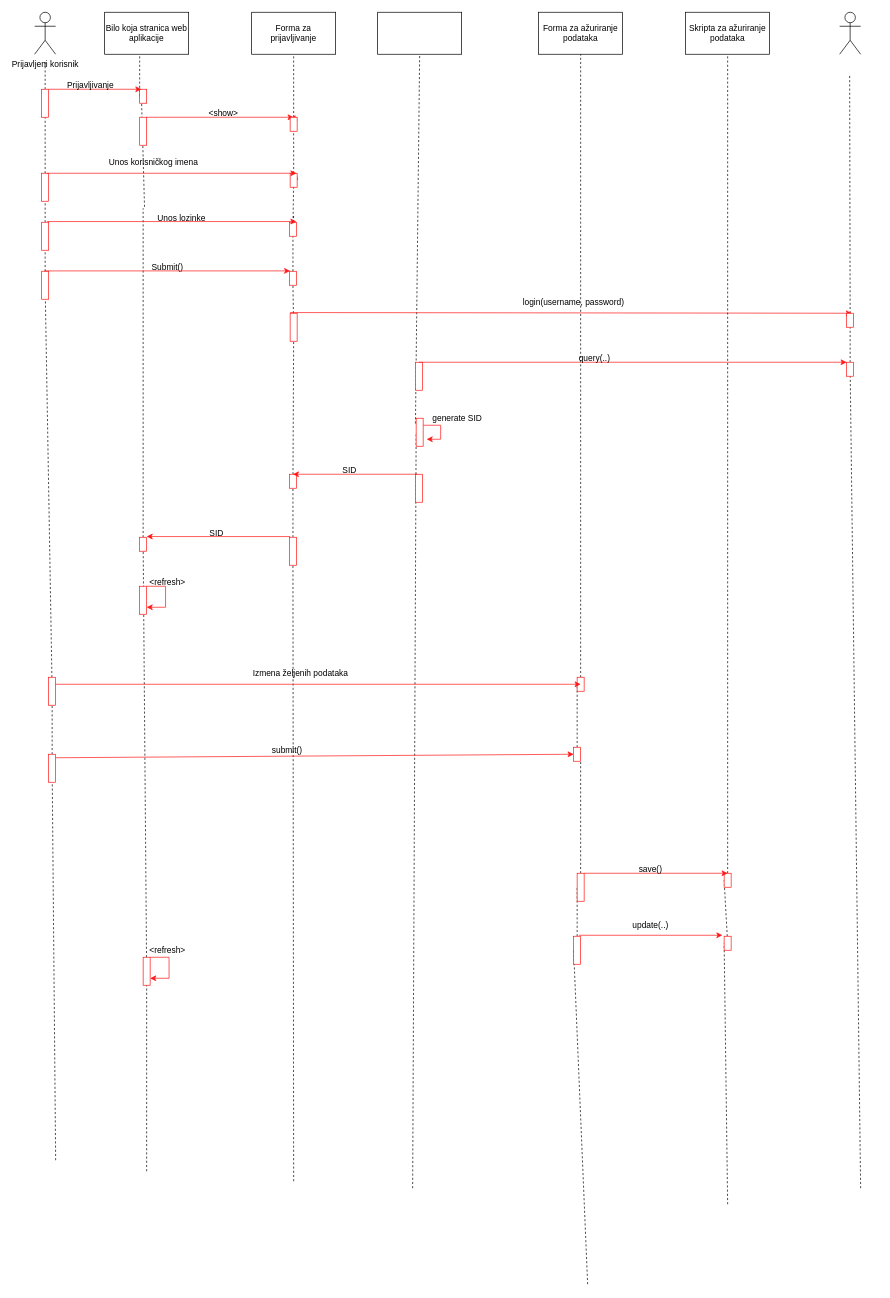
Image size: 890x1298. Some labels were removed from this diagram. The box of each missing label's shape, as (x1, y1, x2, y2) in pixels:
Baza podataka: (839, 12, 861, 54)
Skripta za logovanje: (377, 12, 462, 54)
